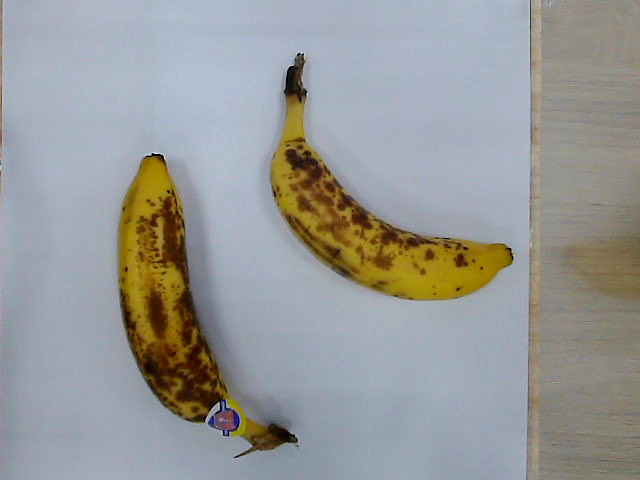rotten_banana: (270, 55, 517, 300), (118, 156, 298, 452)
